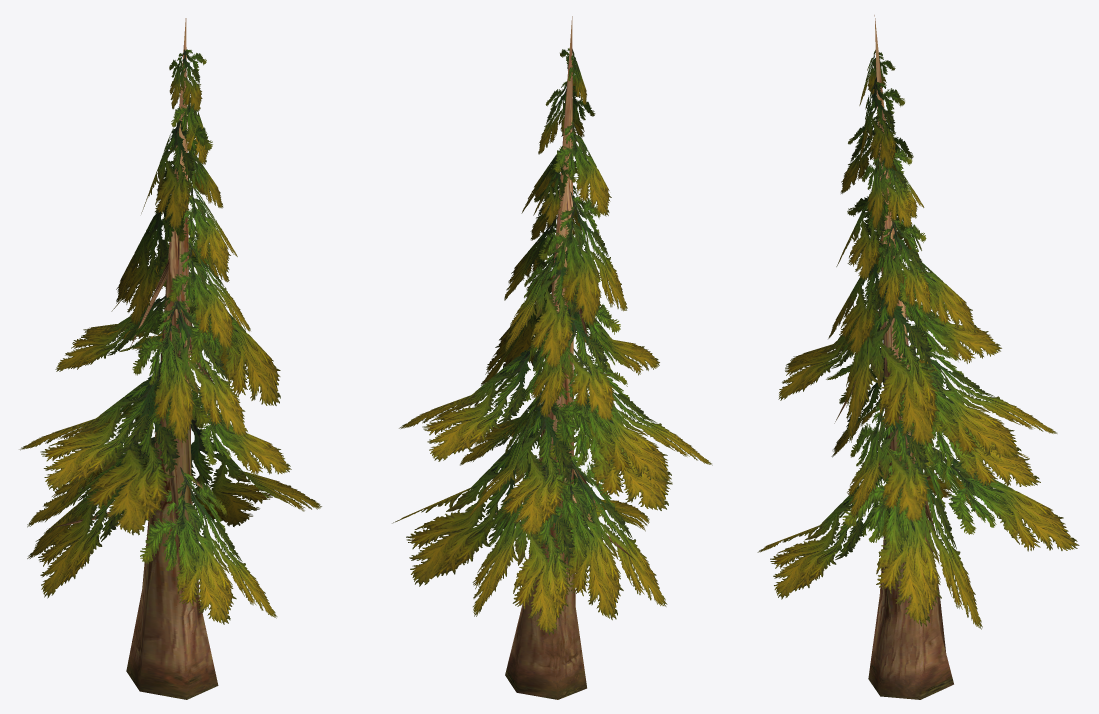
The model's file is environment_Tree_songshu_001_b.FBX.
The picture shows the model from 3 angles, left to right: view 1: azimuth 30°, elevation 25°; view 2: azimuth 150°, elevation 25°; view 3: azimuth 270°, elevation 25°; orthographic projection. The views are drawn at different scales.
Parts seen in each view (by area): view 1: environment_Tree_songshu_001_b01, environment_Tree_songshu_001_b02; view 2: environment_Tree_songshu_001_b01, environment_Tree_songshu_001_b02; view 3: environment_Tree_songshu_001_b01, environment_Tree_songshu_001_b02.
Part boxes in pixels (left/top/right/bottom): environment_Tree_songshu_001_b01: left=19, top=49, right=321, bottom=624; environment_Tree_songshu_001_b02: left=49, top=18, right=218, bottom=699; environment_Tree_songshu_001_b01: left=392, top=48, right=712, bottom=635; environment_Tree_songshu_001_b02: left=496, top=16, right=635, bottom=699; environment_Tree_songshu_001_b01: left=757, top=50, right=1079, bottom=629; environment_Tree_songshu_001_b02: left=834, top=15, right=953, bottom=699.
Bounding box in the file's own units: 207 × 440 × 202.
